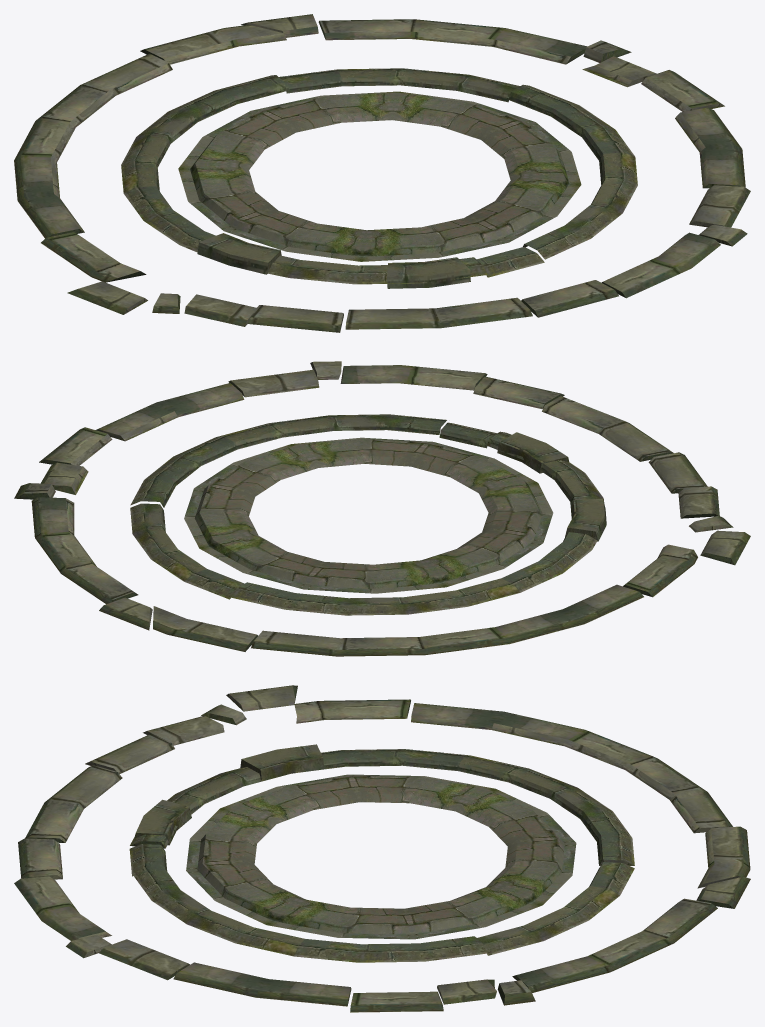
File: THL1_5.fbx
3 renders of one model, top to bottom at view 1: azimuth 30°, elevation 25°; view 2: azimuth 150°, elevation 25°; view 3: azimuth 270°, elevation 25°, orthographic. The views are drawn at different scales.
Visible parts, largest first — view 1: taohualin:polySurface7; view 2: taohualin:polySurface7; view 3: taohualin:polySurface7.
Part boxes in pixels (box(x1,y1,x2,y2)): taohualin:polySurface7: box(14, 14, 750, 332); taohualin:polySurface7: box(14, 361, 750, 656); taohualin:polySurface7: box(14, 685, 750, 1012).
Bounding box in the file's own units: 15.42 × 0.3085 × 14.69.
